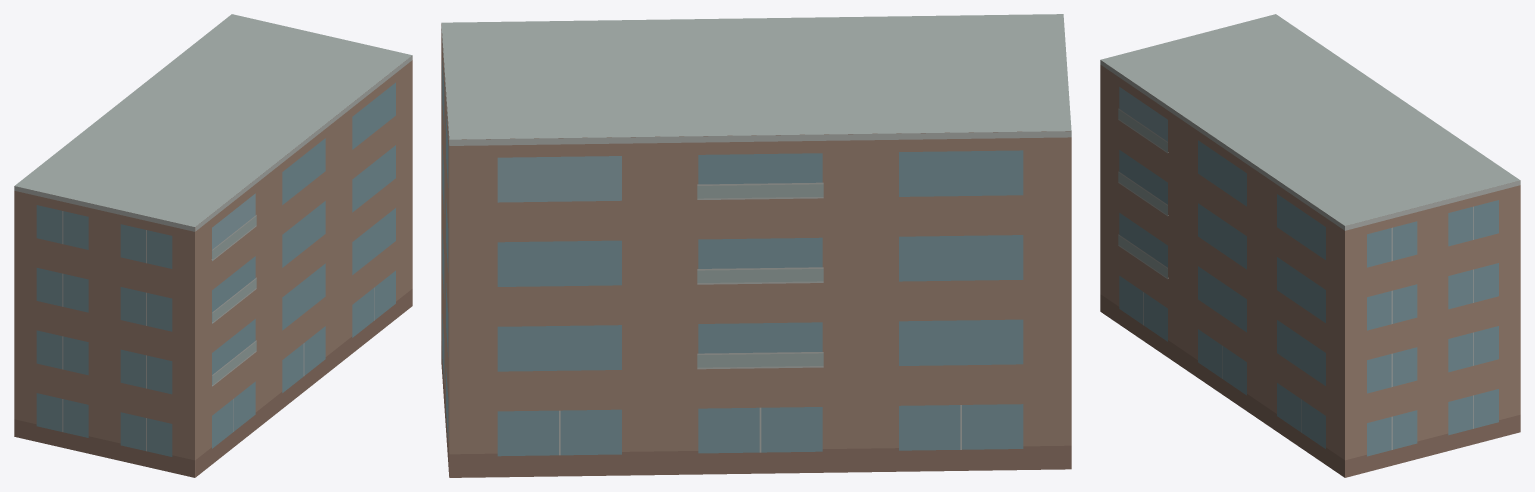
File: survey-upis-32719691.glb
3 renders of one model, left to right at view 1: azimuth 30°, elevation 25°; view 2: azimuth 150°, elevation 25°; view 3: azimuth 270°, elevation 25°, orthographic. The views are drawn at different scales.
Visible parts, largest first — view 1: survey-upis-32719691.tmp; view 2: survey-upis-32719691.tmp; view 3: survey-upis-32719691.tmp.
Part boxes in pixels (x1,y1,x2,y2): survey-upis-32719691.tmp: (14,14,412,477); survey-upis-32719691.tmp: (441,14,1071,477); survey-upis-32719691.tmp: (1100,14,1520,477).
Size of the model in its own units: 23.31 by 12.9 by 19.52.
